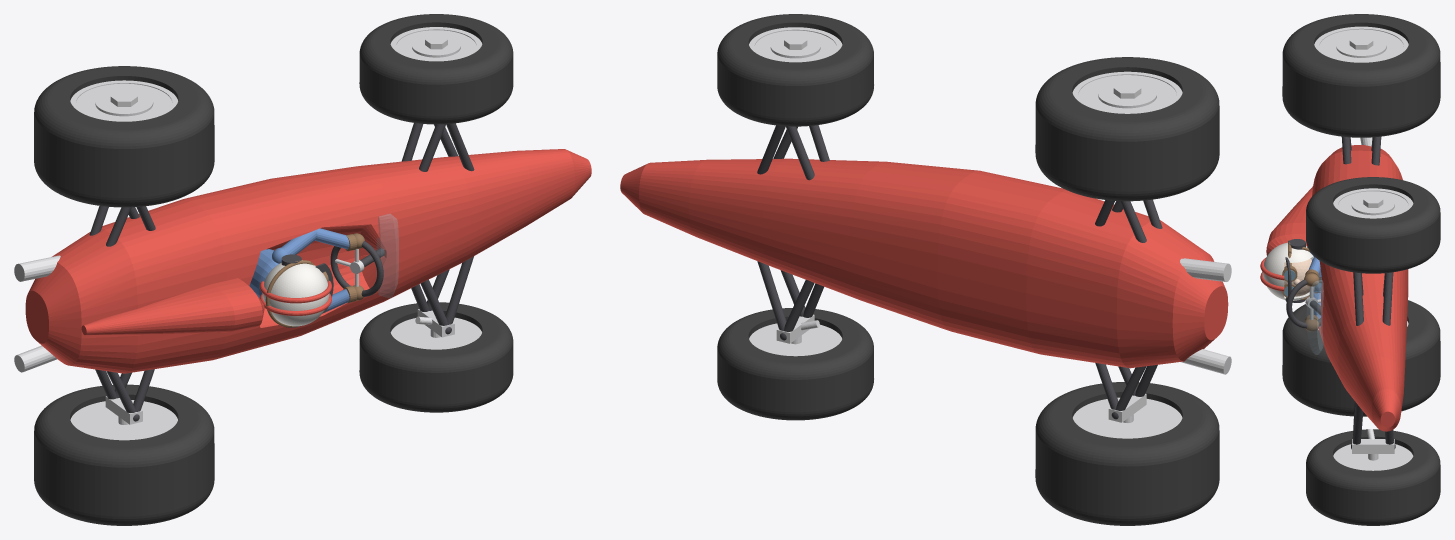
Rendered from race-car.glb.
The picture shows the model from 3 angles, left to right: view 1: azimuth 30°, elevation 25°; view 2: azimuth 150°, elevation 25°; view 3: azimuth 270°, elevation 25°; orthographic projection. The views are drawn at different scales.
Visible parts, largest first — view 1: chassis__body, wheel_rl__tyre, wheel_rr__tyre, wheel_fl__tyre, wheel_fr__tyre, wheel_rl__rim, wheel_rr__rim, driver_head__helmet_shell, wheel_fl__rim, wheel_fr__rim, chassis__windscreen, chassis__exhausts (+7 smaller); view 2: chassis__body, wheel_rl__tyre, wheel_rr__tyre, wheel_fl__tyre, wheel_fr__tyre, wheel_rl__rim, wheel_rr__rim, wheel_fl__rim, wheel_fr__rim, chassis__exhausts, wishbone_lower_fr__arms, wishbone_lower_fl__arms (+2 smaller); view 3: wheel_rl__tyre, chassis__body, wheel_fl__tyre, wheel_fr__tyre, wheel_rr__tyre, wheel_rl__rim, wheel_fl__rim, wheel_fr__rim, driver_head__helmet_shell, chassis__windscreen, upright_fr__knuckle, wishbone_lower_fl__arms (+9 smaller).
Boxes of the visible parts, x1,y1,x2,y2 form: chassis__body: (25, 149, 591, 373); wheel_rl__tyre: (34, 66, 214, 207); wheel_rr__tyre: (34, 384, 214, 525); wheel_fl__tyre: (359, 14, 513, 124); wheel_fr__tyre: (359, 302, 513, 412); wheel_rl__rim: (70, 80, 177, 121); wheel_rr__rim: (70, 400, 177, 440); driver_head__helmet_shell: (262, 260, 329, 326); wheel_fl__rim: (390, 27, 482, 61); wheel_fr__rim: (390, 317, 481, 349); chassis__windscreen: (377, 214, 398, 297); chassis__exhausts: (14, 255, 60, 372); chassis__body: (620, 158, 1228, 368); wheel_rl__tyre: (1035, 57, 1219, 201); wheel_rr__tyre: (1035, 382, 1219, 525); wheel_fl__tyre: (717, 14, 873, 126); wheel_fr__tyre: (717, 308, 873, 420); wheel_rl__rim: (1072, 71, 1182, 113); wheel_rr__rim: (1073, 397, 1182, 438); wheel_fl__rim: (749, 27, 842, 62); wheel_fr__rim: (749, 323, 841, 356); chassis__exhausts: (1180, 258, 1231, 374); wishbone_lower_fr__arms: (757, 261, 814, 340); wishbone_lower_fl__arms: (757, 125, 814, 180); wheel_rl__tyre: (1282, 14, 1440, 137); chassis__body: (1266, 145, 1408, 431); wheel_fl__tyre: (1306, 177, 1440, 273); wheel_fr__tyre: (1306, 429, 1440, 525); wheel_rr__tyre: (1282, 300, 1440, 416); wheel_rl__rim: (1314, 26, 1408, 62); wheel_fl__rim: (1333, 188, 1413, 218); wheel_fr__rim: (1333, 444, 1413, 470); driver_head__helmet_shell: (1262, 242, 1314, 300); chassis__windscreen: (1307, 280, 1323, 354); upright_fr__knuckle: (1352, 429, 1394, 460); wishbone_lower_fl__arms: (1382, 272, 1393, 325).
Size of the model in its own units: 40.06 by 26.3 by 12.31.
